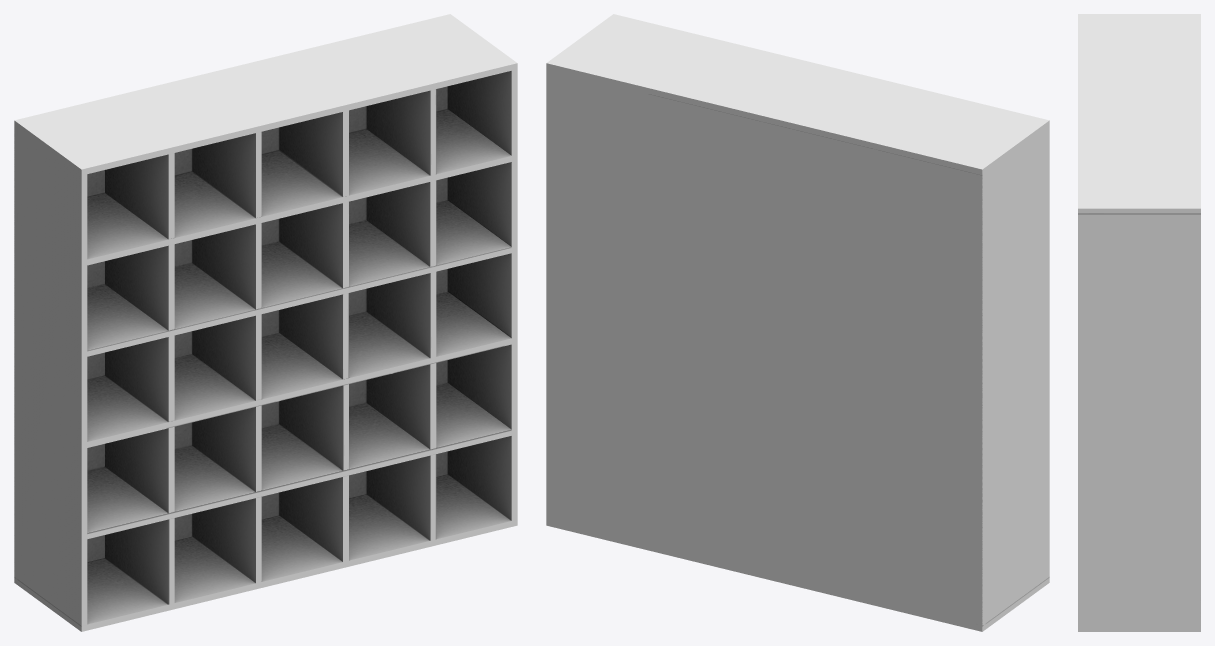
The model's file is shelf_three_plain.glb.
3 views of the same model, side by side, from view 1: azimuth 30°, elevation 25°; view 2: azimuth 150°, elevation 25°; view 3: azimuth 270°, elevation 25° (orthographic). The views are drawn at different scales.
Parts seen in each view (by area): view 1: shelf_three_plain; view 2: shelf_three_plain; view 3: shelf_three_plain.
Part boxes in pixels (x1,y1,x2,y2): shelf_three_plain: [14, 14, 517, 631]; shelf_three_plain: [546, 14, 1049, 631]; shelf_three_plain: [1078, 14, 1200, 631].
Bounding box in the file's own units: 2.48 × 2.51 × 0.6606.
Materials: 1 (1 with a texture image).
